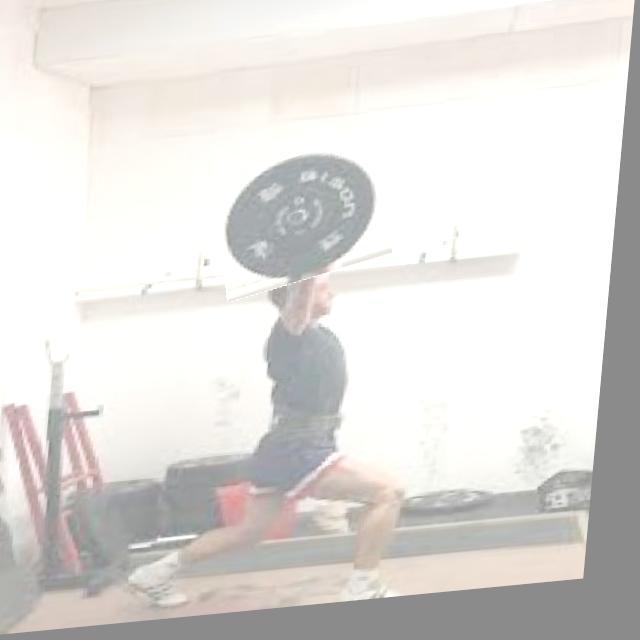barbell: (215, 144, 401, 303)
